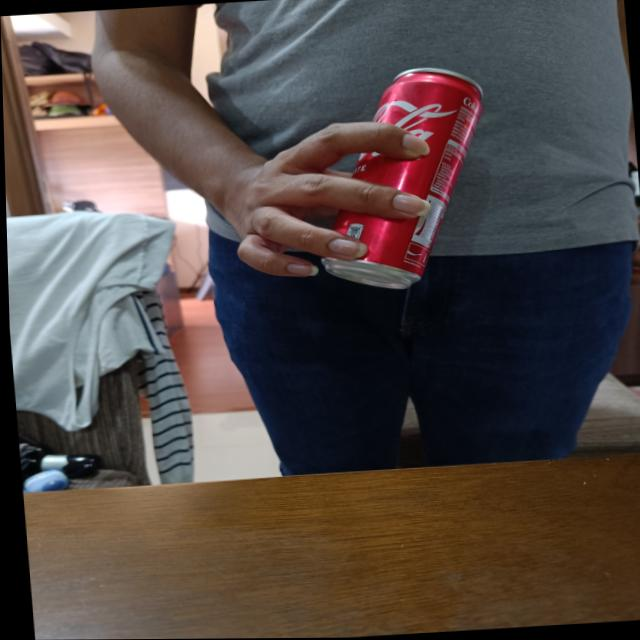coke: (308, 66, 496, 295)
